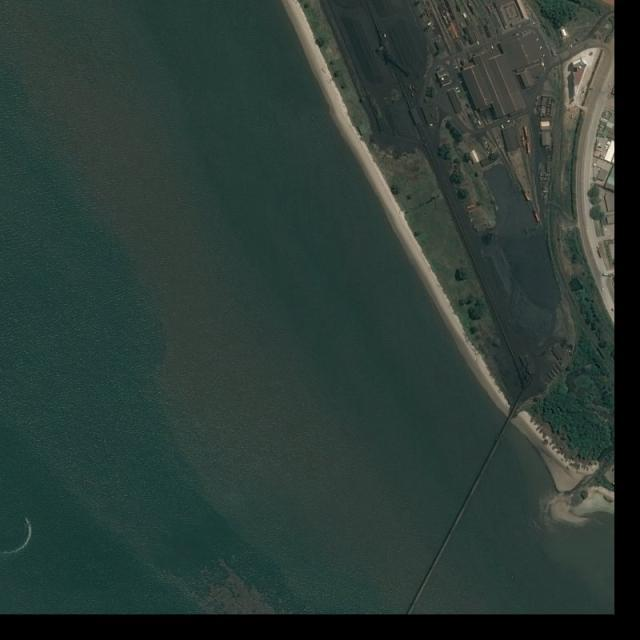ship: (24, 517, 32, 528)
